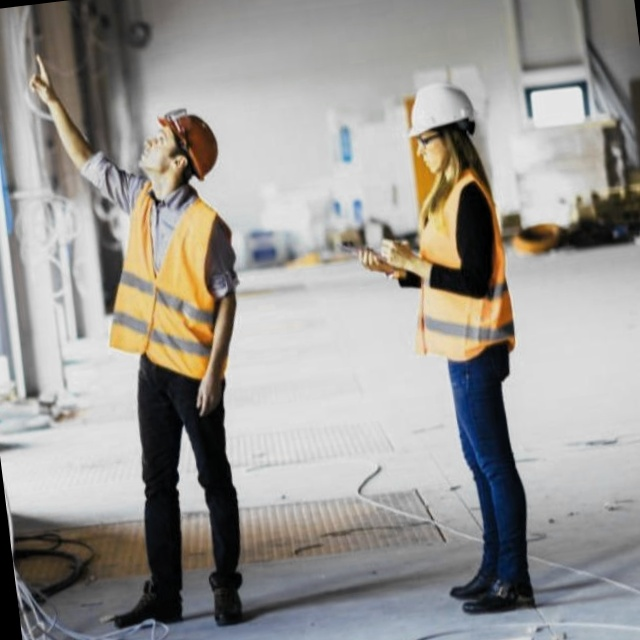Con_Casco: (403, 78, 480, 177)
Con_Chaleco: (105, 177, 250, 395), (391, 167, 520, 362)
